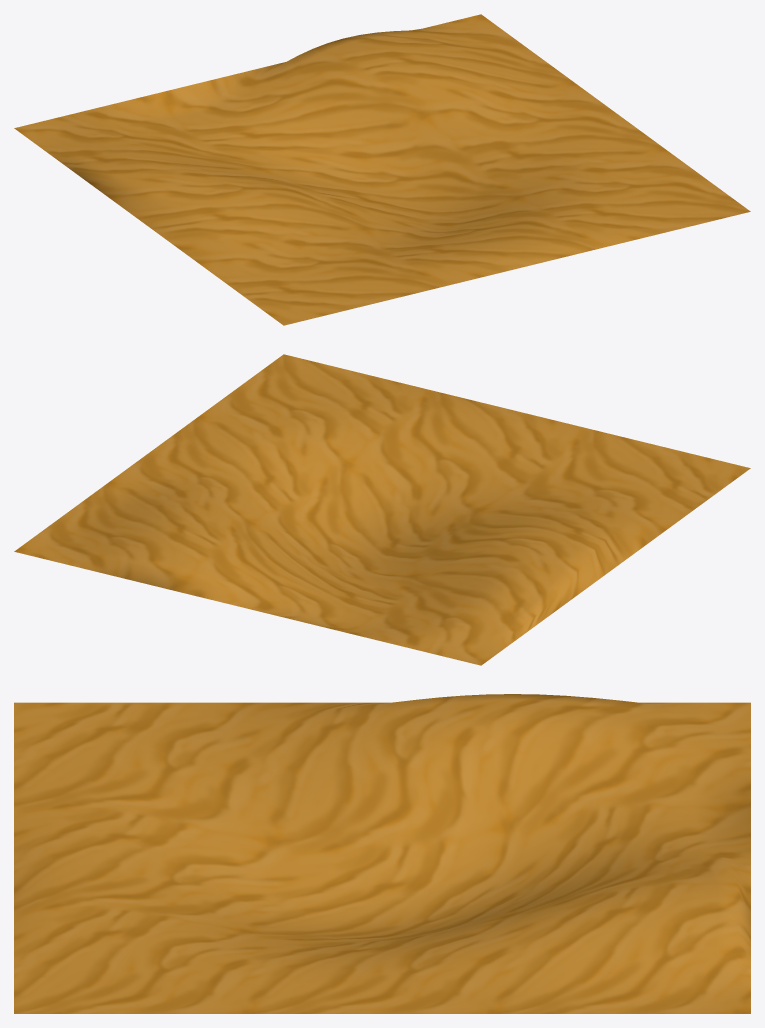
File: Sandfloor_C.fbx
3 views of the same model, one above another, from view 1: azimuth 30°, elevation 25°; view 2: azimuth 150°, elevation 25°; view 3: azimuth 270°, elevation 25° (orthographic). The views are drawn at different scales.
Parts seen in each view (by area): view 1: Sandfloor_C; view 2: Sandfloor_C; view 3: Sandfloor_C.
Boxes of the visible parts, x1,y1,x2,y2 form: Sandfloor_C: (14, 14, 750, 325); Sandfloor_C: (14, 354, 750, 665); Sandfloor_C: (14, 694, 750, 1013).
Bounding box in the file's own units: 16 × 1.62 × 16.
